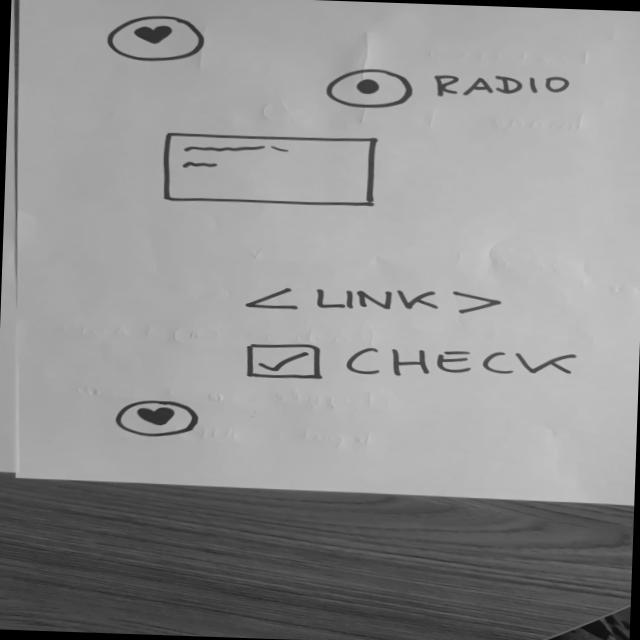checkbox: (239, 334, 590, 394)
icon-button: (102, 11, 212, 66), (111, 396, 201, 440)
link: (233, 280, 511, 324)
radio: (320, 62, 576, 116)
textarea: (156, 129, 382, 211)
